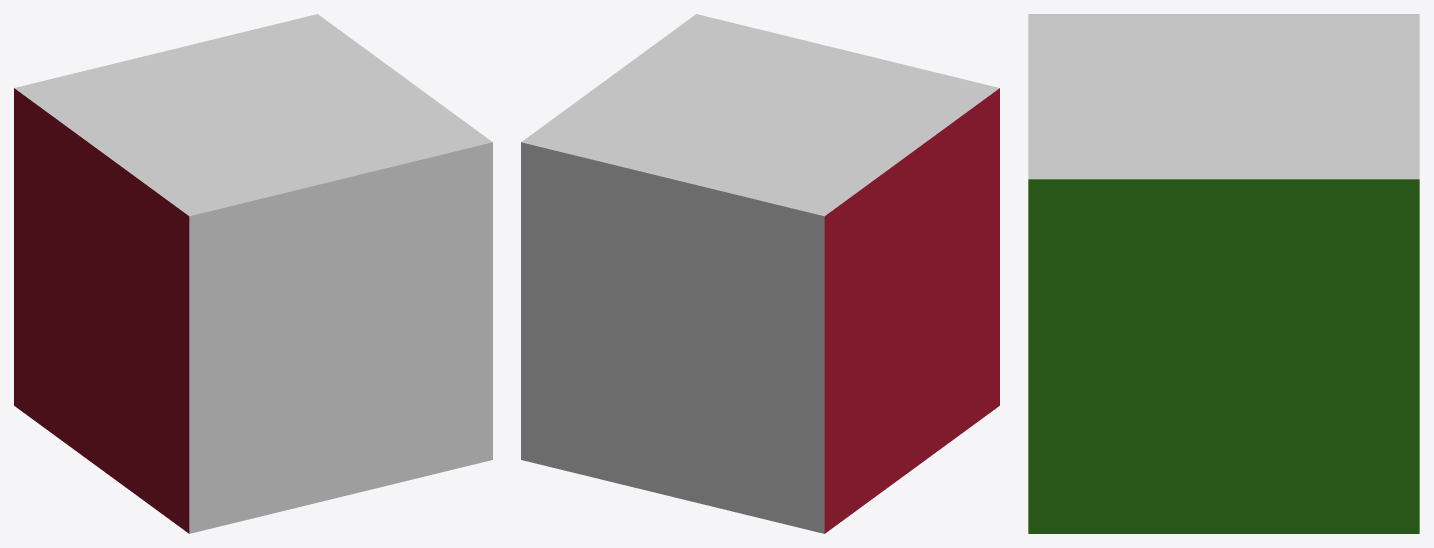
The model's file is cornell.obj.
3 renders of one model, left to right at view 1: azimuth 30°, elevation 25°; view 2: azimuth 150°, elevation 25°; view 3: azimuth 270°, elevation 25°, orthographic. The views are drawn at different scales.
Visible parts, largest first — view 1: box; view 2: box; view 3: box.
Boxes of the visible parts, x1=… form: box: x1=14, y1=14, x2=492, y2=533; box: x1=521, y1=14, x2=999, y2=533; box: x1=1028, y1=14, x2=1419, y2=533.
Bounding box in the file's own units: 2 × 2 × 2.
